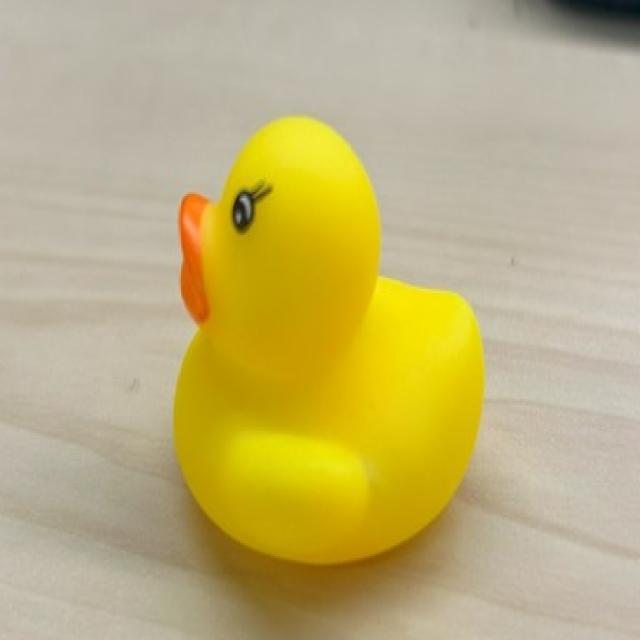duck_regular: (134, 65, 504, 594)
